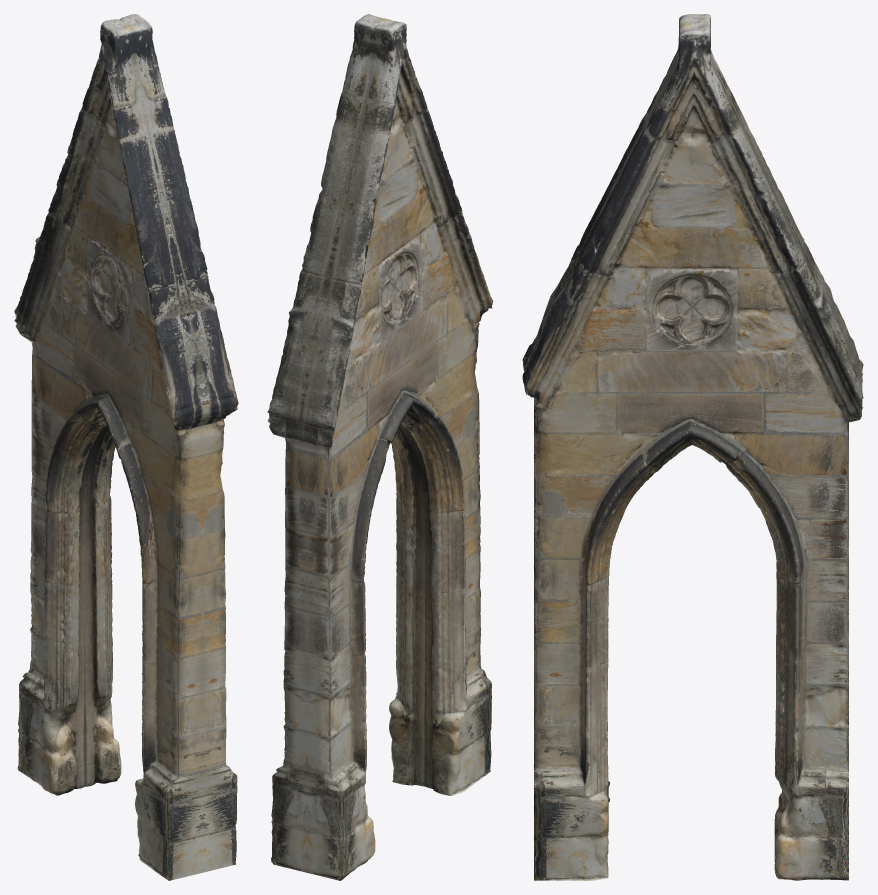
Rendered from sm_Chapel_01_03.fbx.
3 views of the same model, side by side, from view 1: azimuth 30°, elevation 25°; view 2: azimuth 150°, elevation 25°; view 3: azimuth 270°, elevation 25° (orthographic). The views are drawn at different scales.
Visible parts, largest first — view 1: sm_Chapel_01_03_LOD0; view 2: sm_Chapel_01_03_LOD0; view 3: sm_Chapel_01_03_LOD0.
Part boxes in pixels (x1,y1,x2,y2): sm_Chapel_01_03_LOD0: (14,14,238,880); sm_Chapel_01_03_LOD0: (267,14,493,880); sm_Chapel_01_03_LOD0: (522,14,863,880).
Size of the model in its own units: 50.23 by 195 by 531.
